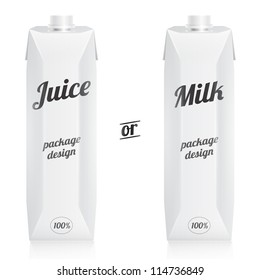carton: (14, 5, 106, 250), (155, 5, 240, 257)
